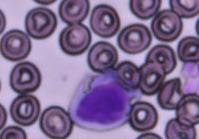L: (68, 68, 134, 130)
